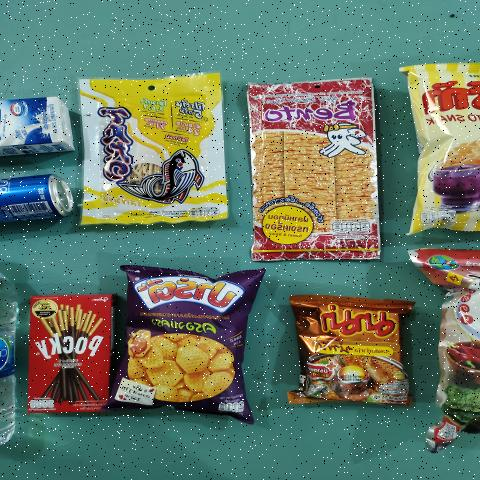bento_red: (250, 79, 366, 255)
mama: (310, 308, 397, 400)
party_purple: (133, 283, 244, 400)
pokki: (33, 299, 107, 409)
taro_yellow: (82, 76, 216, 218)
